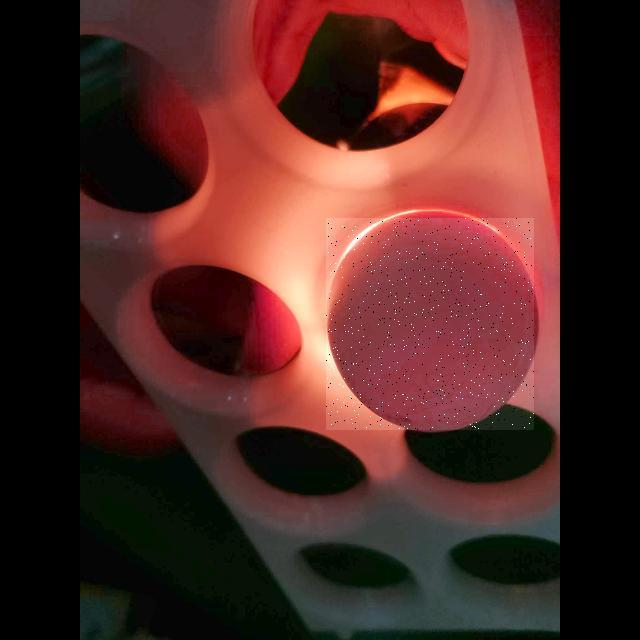A - Good: (329, 211, 540, 437)
